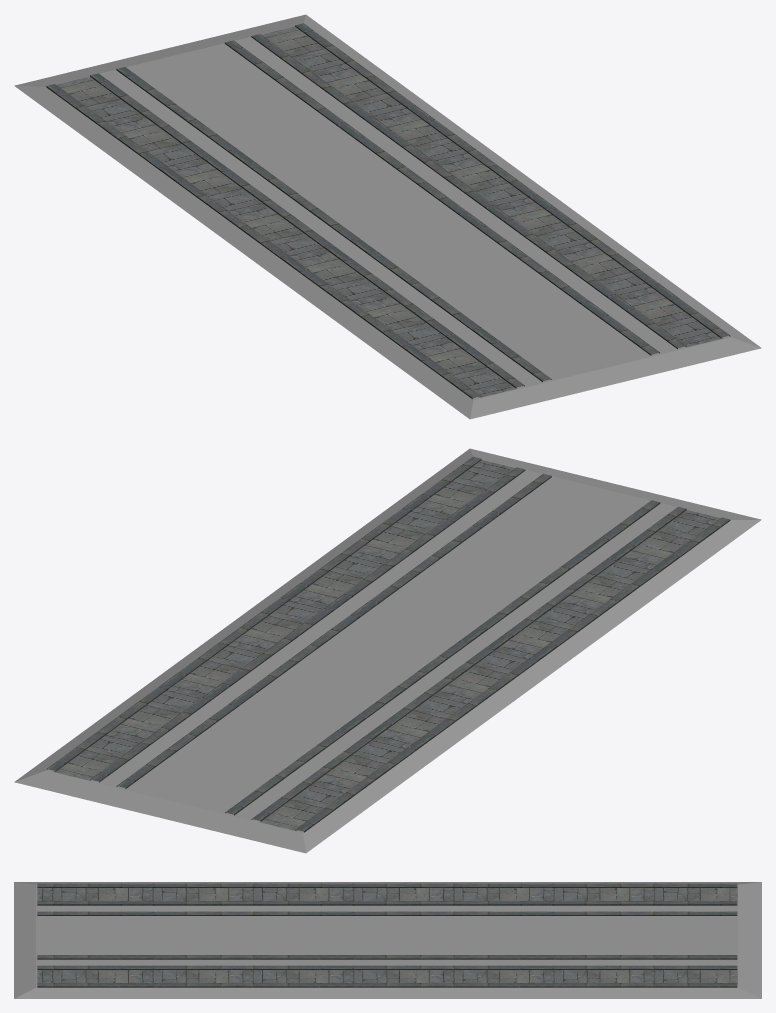
The picture shows the model from 3 angles, top to bottom: view 1: azimuth 30°, elevation 25°; view 2: azimuth 150°, elevation 25°; view 3: azimuth 270°, elevation 25°; orthographic projection. The views are drawn at different scales.
Parts seen in each view (by area): view 1: Scene_Object_Di_3_Xzm, Scene_Object_Di_3; view 2: Scene_Object_Di_3_Xzm, Scene_Object_Di_3; view 3: Scene_Object_Di_3_Xzm, Scene_Object_Di_3.
Part boxes in pixels (x1,y1,x2,y2): Scene_Object_Di_3_Xzm: (14, 14, 761, 419); Scene_Object_Di_3: (46, 23, 730, 398); Scene_Object_Di_3_Xzm: (14, 448, 761, 853); Scene_Object_Di_3: (46, 456, 730, 832); Scene_Object_Di_3_Xzm: (14, 882, 761, 998); Scene_Object_Di_3: (37, 883, 737, 987).
Size of the model in its own units: 1447 by 30.97 by 3913.
